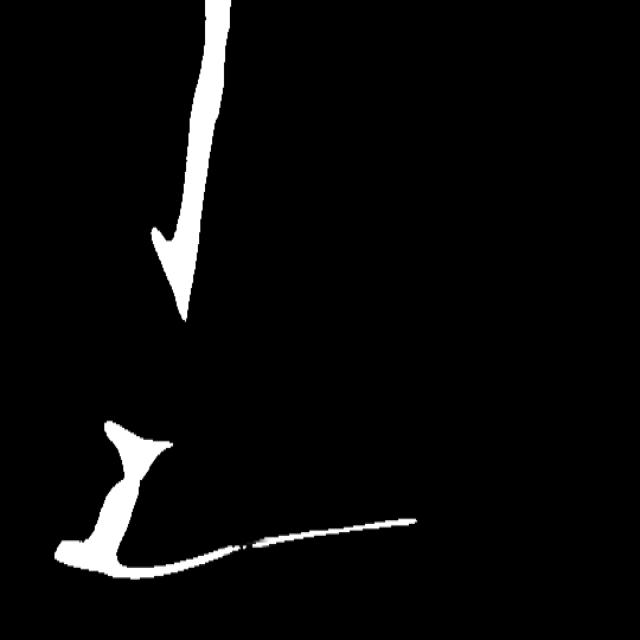inf: (234, 530, 266, 561)
